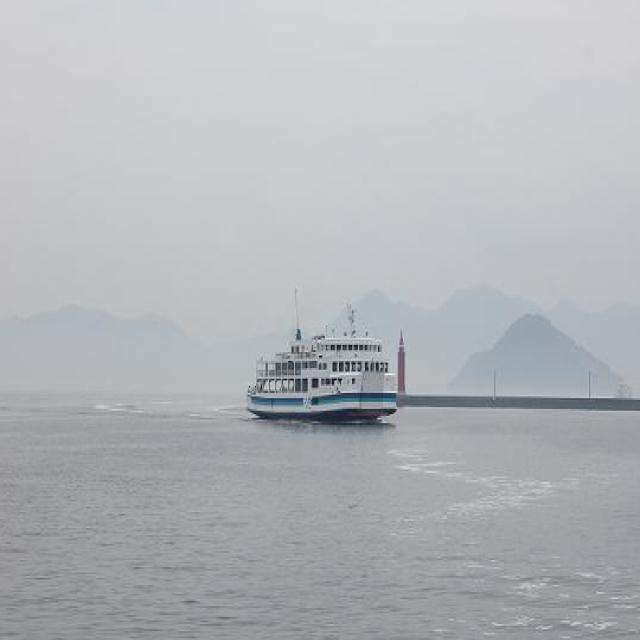passenger ship: (254, 286, 411, 426)
